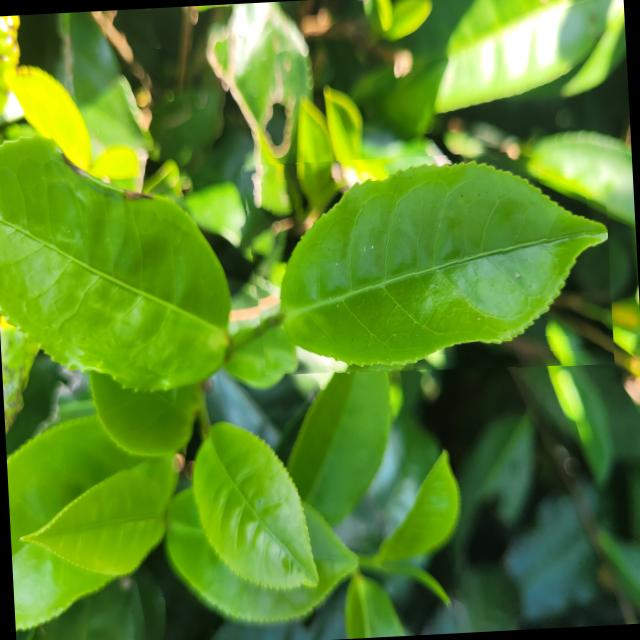Catagory A(1-2 days): (241, 147, 615, 384)
